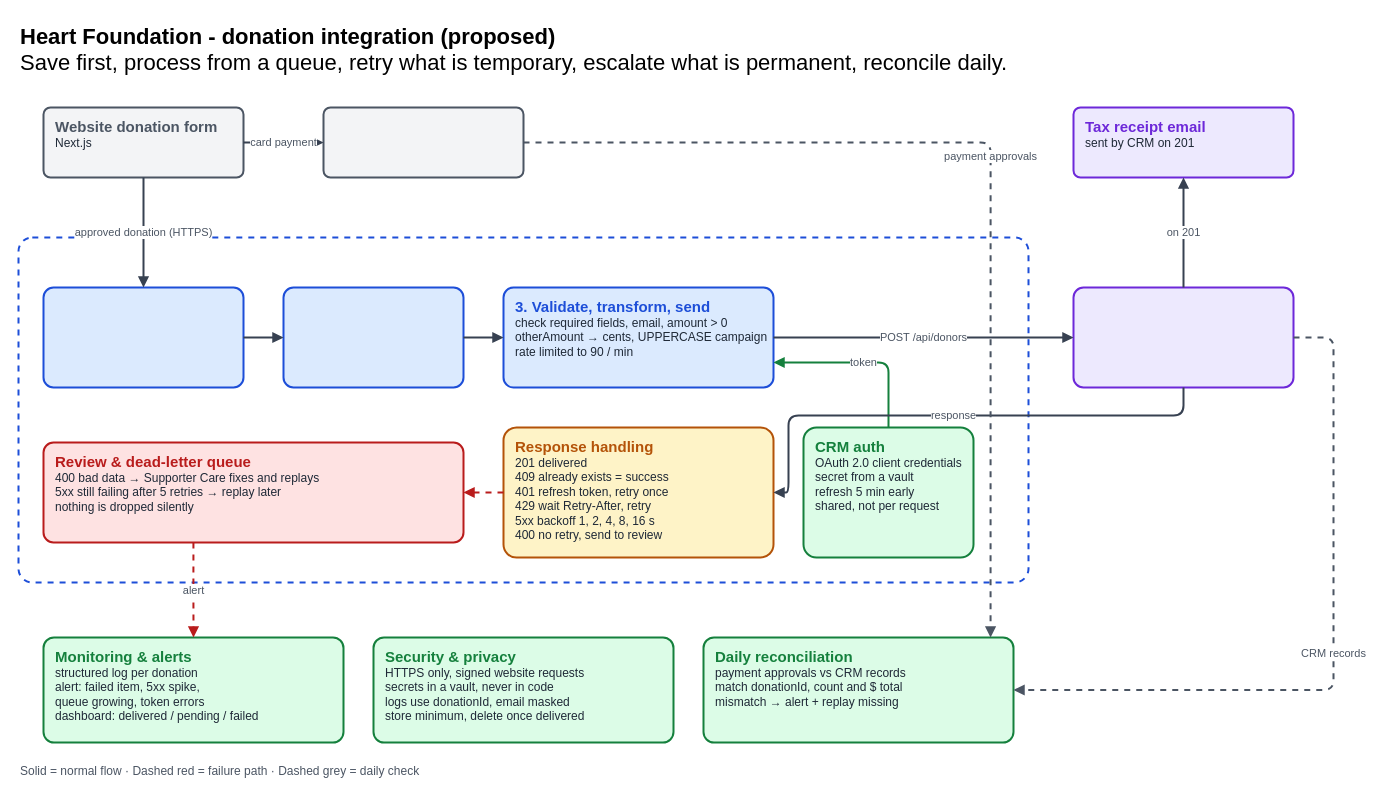
Image size: 1383x798. Some labels were removed from this diagram. The shapes that lost their labels are listed below. From the top down, each one's box as (x1, y1, x2, y2) in pixels, then its label:
(322, 106, 524, 178): Payment provider approves the card payment
(42, 286, 244, 388): 1. Receive & store save first, reply 202 duplicate check on donationId
(282, 286, 464, 388): 2. Queue absorbs campaign spikes holds donations while the CRM is down
(1072, 286, 1294, 388): CRM POST /api/donors 100 requests / min
(17, 236, 1029, 583): Integration service
